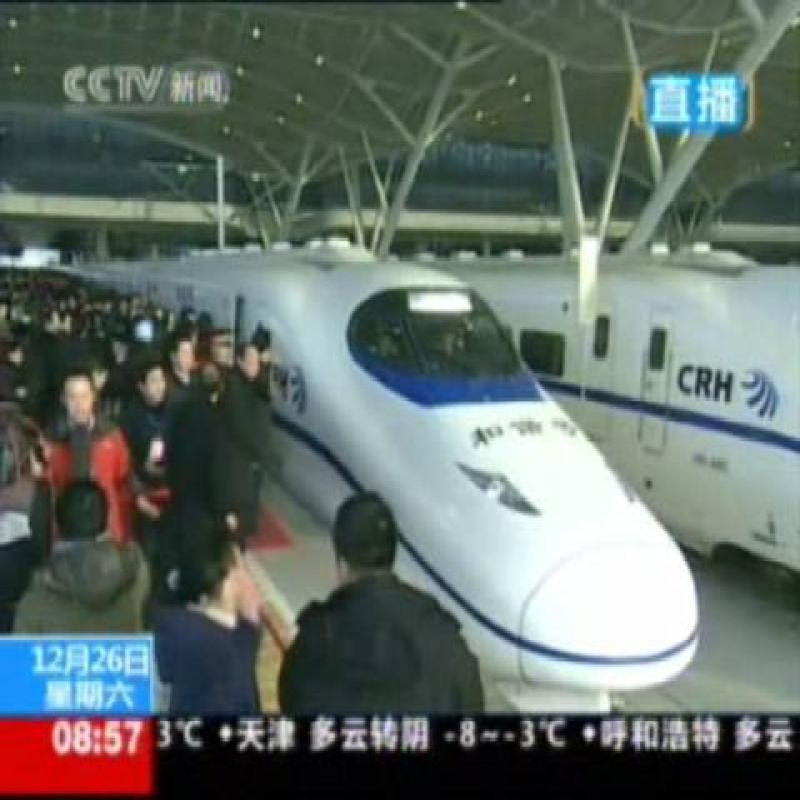train: (354, 203, 626, 670)
